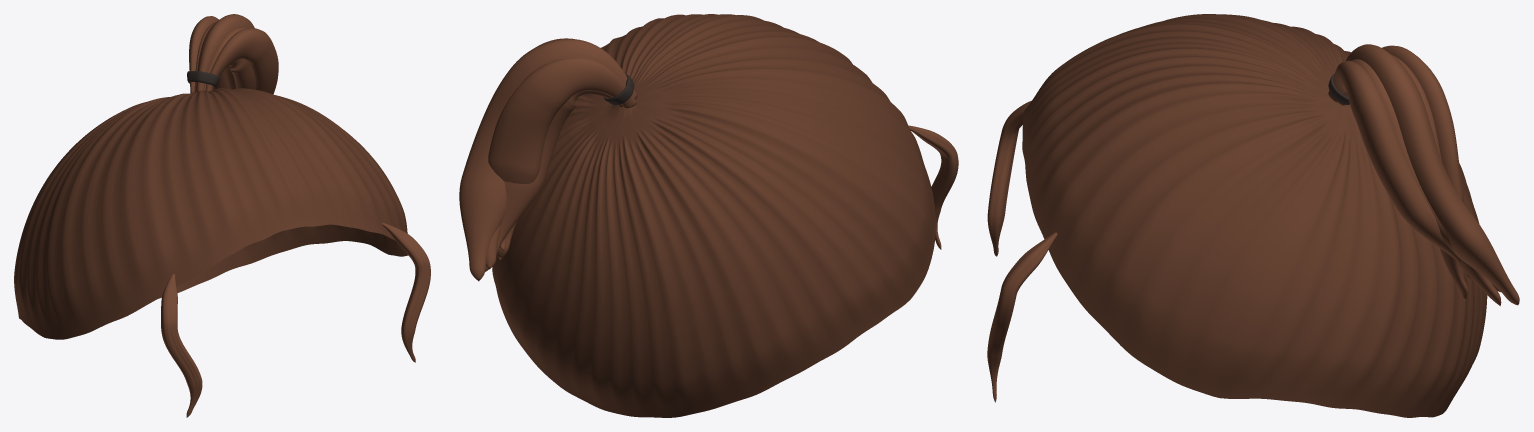
File: ponytail-ears-default.glb
3 renders of one model, left to right at view 1: azimuth 30°, elevation 25°; view 2: azimuth 150°, elevation 25°; view 3: azimuth 270°, elevation 25°, orthographic. The views are drawn at different scales.
Visible parts, largest first — view 1: Hair / swept roots220, Hair / rounded tail220 4, Hair / adjustable front216 1, Hair / adjustable front216 -1, Hair / rounded tail220 2, Hair / rounded tail220 3, Hair / rounded tail220 0; view 2: Hair / swept roots220, Hair / rounded tail220 0, Hair / rounded tail220 2, Hair / rounded tail220 1, Hair / adjustable front216 -1; view 3: Hair / swept roots220, Hair / rounded tail220 2, Hair / rounded tail220 4, Hair / rounded tail220 0, Hair / adjustable front216 1, Hair / adjustable front216 -1, Hair / rounded tail220 3, Hair / rounded tail220 1.
Part boxes in pixels (<box>): Hair / swept roots220: <box>14,87,408,339</box>; Hair / rounded tail220 4: <box>205,28,278,94</box>; Hair / adjustable front216 1: <box>382,222,430,362</box>; Hair / adjustable front216 -1: <box>161,274,202,417</box>; Hair / rounded tail220 2: <box>196,14,254,92</box>; Hair / rounded tail220 3: <box>203,27,256,91</box>; Hair / rounded tail220 0: <box>189,16,218,93</box>; Hair / swept roots220: <box>492,14,935,417</box>; Hair / rounded tail220 0: <box>488,57,636,259</box>; Hair / rounded tail220 2: <box>459,39,637,281</box>; Hair / rounded tail220 1: <box>485,56,622,271</box>; Hair / adjustable front216 -1: <box>908,125,958,249</box>; Hair / swept roots220: <box>1022,14,1487,417</box>; Hair / rounded tail220 2: <box>1345,44,1519,305</box>; Hair / rounded tail220 4: <box>1328,60,1471,279</box>; Hair / rounded tail220 0: <box>1382,45,1468,300</box>; Hair / adjustable front216 1: <box>987,232,1057,402</box>; Hair / adjustable front216 -1: <box>987,100,1031,256</box>; Hair / rounded tail220 3: <box>1338,59,1500,292</box>; Hair / rounded tail220 1: <box>1392,55,1501,306</box>.
Size of the model in its own units: 0.7728 by 0.6271 by 0.7842.
